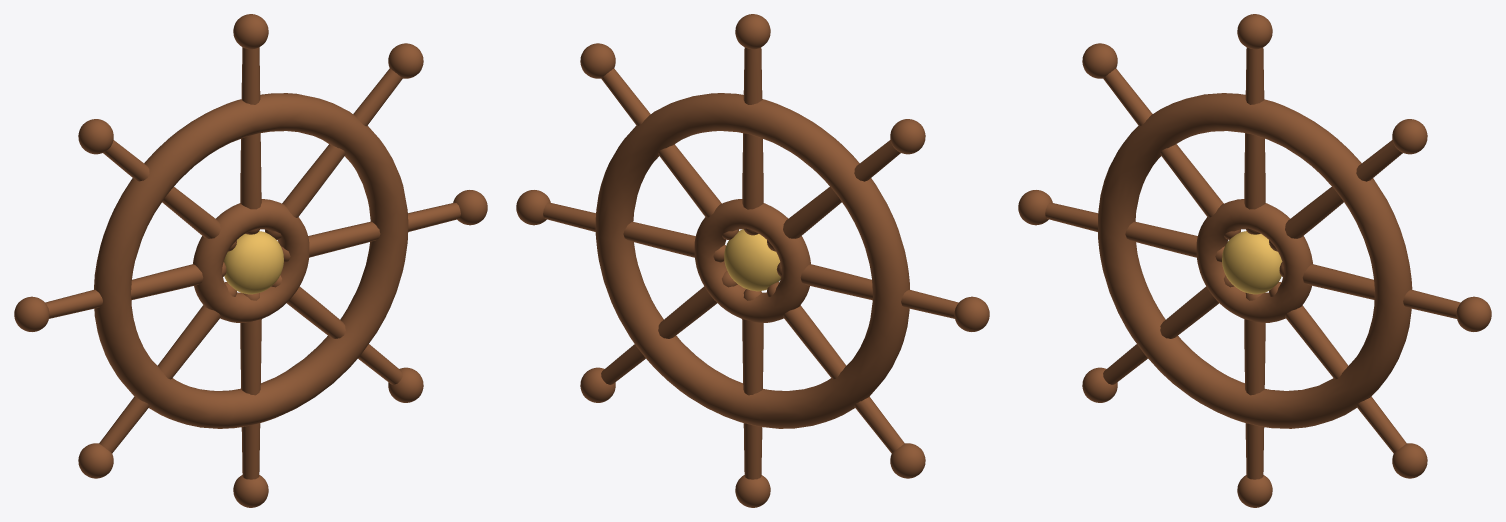
Rendered from deco_timon.glb.
3 renders of one model, left to right at view 1: azimuth 30°, elevation 25°; view 2: azimuth 150°, elevation 25°; view 3: azimuth 330°, elevation 25°, orthographic.
Parts seen in each view (by area): view 1: rueda timón.001, rueda dentro.001, centro timón.001, rayo timón 1.001, rayo timón 5.001, rayo timón 2.001, rayo timón 6.001, rayo timón 4.001, rayo timón 0.001, rayo timón 3.001, rayo timón 7.001, mango timón 2.001 (+7 smaller); view 2: rueda timón.001, rueda dentro.001, rayo timón 5.001, rayo timón 1.001, rayo timón 6.001, rayo timón 2.001, rayo timón 0.001, rayo timón 4.001, centro timón.001, rayo timón 7.001, rayo timón 3.001, mango timón 2.001 (+7 smaller); view 3: rueda timón.001, rueda dentro.001, centro timón.001, rayo timón 7.001, rayo timón 3.001, rayo timón 2.001, rayo timón 6.001, rayo timón 0.001, rayo timón 4.001, rayo timón 1.001, rayo timón 5.001, mango timón 2.001 (+7 smaller).
Part boxes in pixels (x1=…): rueda timón.001: x1=94, y1=93, x2=408, y2=428; rueda dentro.001: x1=193, y1=199, x2=309, y2=322; centro timón.001: x1=223, y1=231, x2=283, y2=294; rayo timón 1.001: x1=265, y1=68, x2=402, y2=239; rayo timón 5.001: x1=99, y1=282, x2=236, y2=453; rayo timón 2.001: x1=240, y1=47, x2=261, y2=234; rayo timón 6.001: x1=240, y1=293, x2=261, y2=479; rayo timón 4.001: x1=45, y1=262, x2=226, y2=318; rayo timón 0.001: x1=281, y1=202, x2=460, y2=262; rayo timón 3.001: x1=103, y1=140, x2=236, y2=251; rayo timón 7.001: x1=271, y1=275, x2=402, y2=384; mango timón 2.001: x1=233, y1=14, x2=268, y2=49; rueda timón.001: x1=595, y1=93, x2=909, y2=428; rueda dentro.001: x1=694, y1=199, x2=810, y2=322; rayo timón 5.001: x1=767, y1=282, x2=904, y2=453; rayo timón 1.001: x1=601, y1=68, x2=738, y2=239; rayo timón 6.001: x1=742, y1=289, x2=763, y2=479; rayo timón 2.001: x1=742, y1=47, x2=763, y2=235; rayo timón 0.001: x1=543, y1=202, x2=725, y2=262; rayo timón 4.001: x1=776, y1=262, x2=958, y2=318; centro timón.001: x1=724, y1=229, x2=780, y2=291; rayo timón 7.001: x1=601, y1=271, x2=737, y2=384; rayo timón 3.001: x1=767, y1=140, x2=900, y2=251; mango timón 2.001: x1=735, y1=14, x2=770, y2=49; rueda timón.001: x1=1098, y1=93, x2=1412, y2=428; rueda dentro.001: x1=1196, y1=199, x2=1312, y2=322; centro timón.001: x1=1222, y1=231, x2=1282, y2=294; rayo timón 7.001: x1=1269, y1=282, x2=1406, y2=453; rayo timón 3.001: x1=1103, y1=68, x2=1240, y2=239; rayo timón 2.001: x1=1244, y1=47, x2=1265, y2=234; rayo timón 6.001: x1=1244, y1=293, x2=1265, y2=479; rayo timón 0.001: x1=1279, y1=262, x2=1460, y2=318; rayo timón 4.001: x1=1045, y1=202, x2=1224, y2=262; rayo timón 1.001: x1=1269, y1=140, x2=1402, y2=251; rayo timón 5.001: x1=1103, y1=275, x2=1234, y2=384; mango timón 2.001: x1=1237, y1=14, x2=1272, y2=49.
Bounding box in the file's own units: 0.6421 × 0.6421 × 0.0584.
